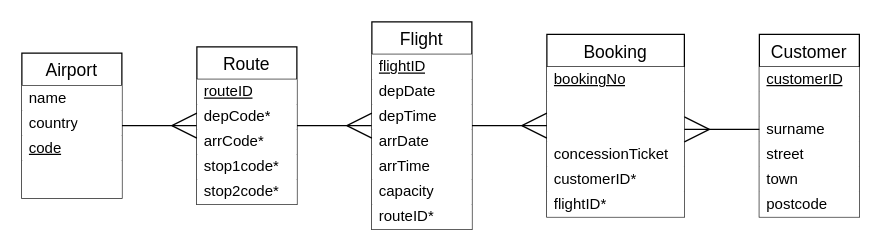
This 881x251 diagram has some shape labels left out. Each missing label, with the box of its shape:
adultTicket: (546, 91, 684, 116)
childTicket: (546, 116, 684, 141)
continent: (21, 160, 121, 198)
forename: (759, 91, 859, 116)
